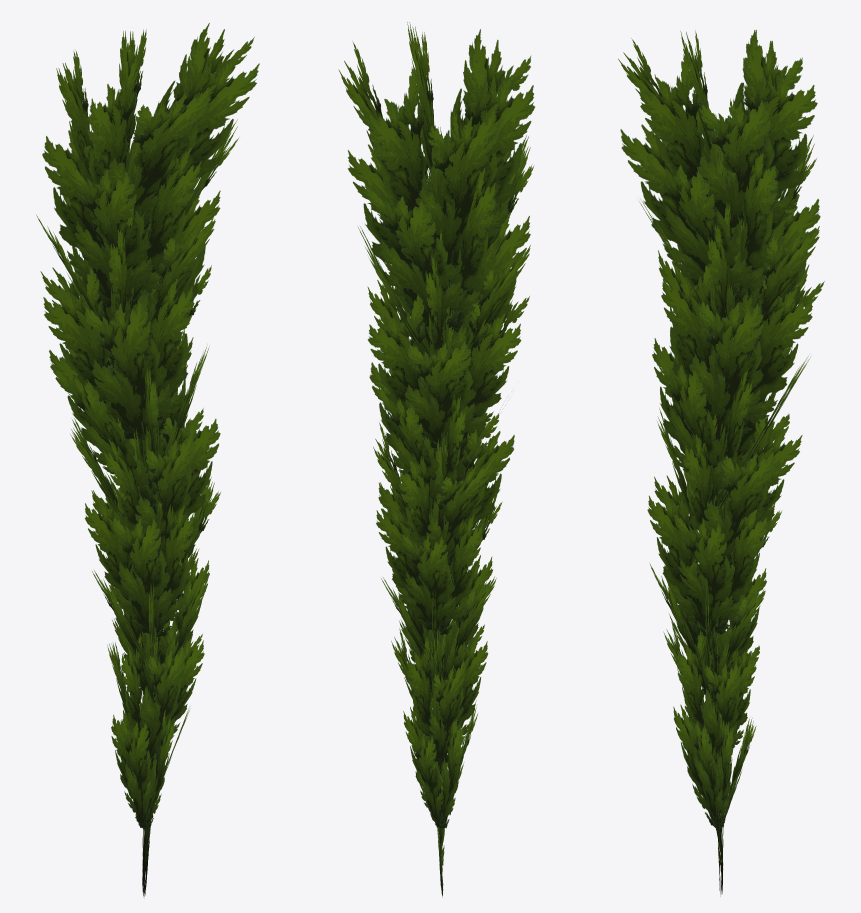
Rendered from SeaWeed03_LOD0_newsmall.glb.
3 renders of one model, left to right at view 1: azimuth 30°, elevation 25°; view 2: azimuth 150°, elevation 25°; view 3: azimuth 270°, elevation 25°, orthographic. The views are drawn at different scales.
Parts seen in each view (by area): view 1: SeaWeed03_high; view 2: SeaWeed03_high; view 3: SeaWeed03_high.
Boxes of the visible parts, bbox=[...] form: SeaWeed03_high: bbox=[36, 23, 259, 898]; SeaWeed03_high: bbox=[338, 22, 535, 897]; SeaWeed03_high: bbox=[618, 29, 824, 896].
Bounding box in the file's own units: 0.2577 × 0.9644 × 0.2575.
1 material, 1 textured.
